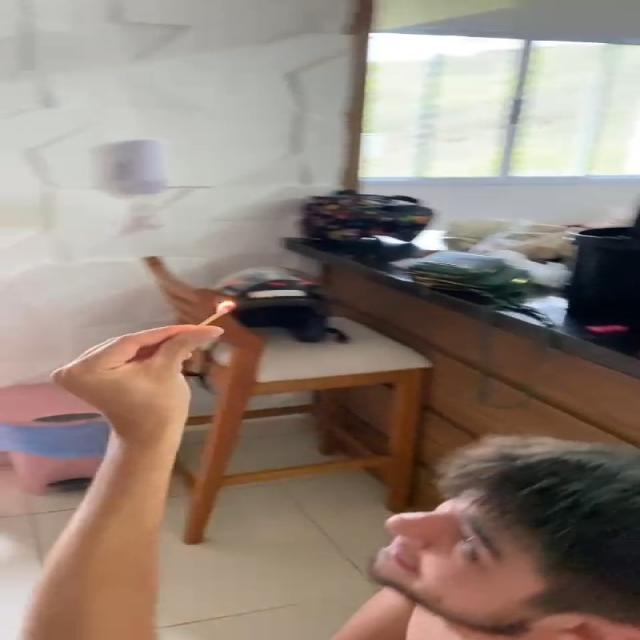fogo-ypXI: (213, 298, 236, 313)
